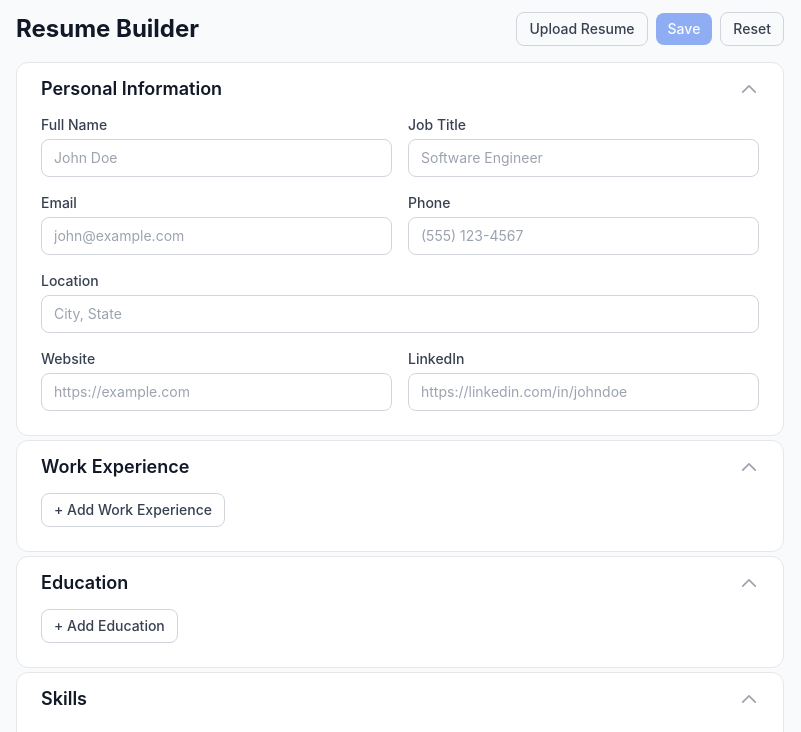
ResumeBuilder › reverts changes when Reset is clicked
Type "Changed Name" into the field with placeholder "John Doe" at (216, 158), box top-left (41, 139), bottom-right (392, 177)
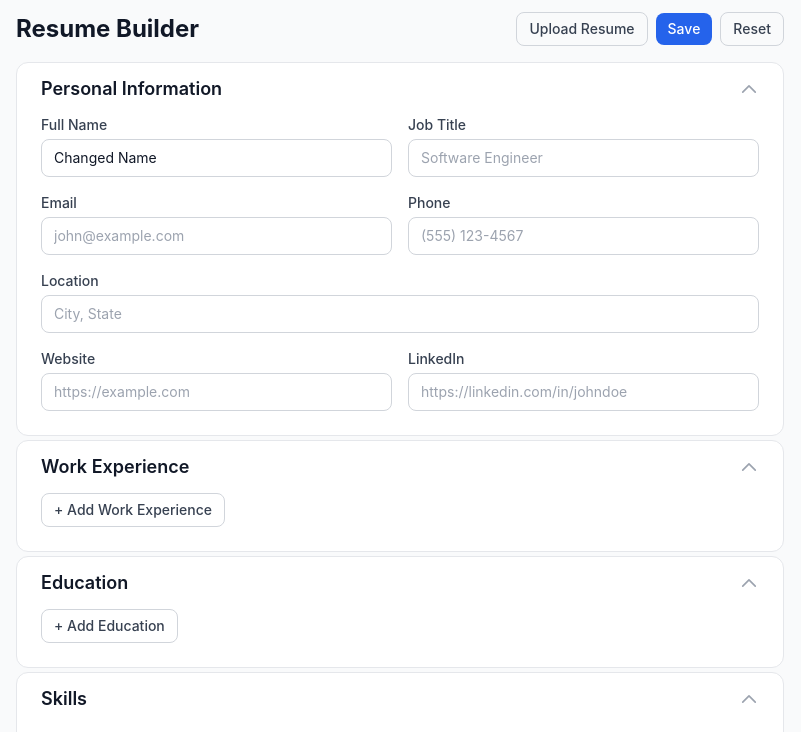
Click the button with test id "reset-btn" at (752, 29), box top-left (720, 12), bottom-right (784, 46)
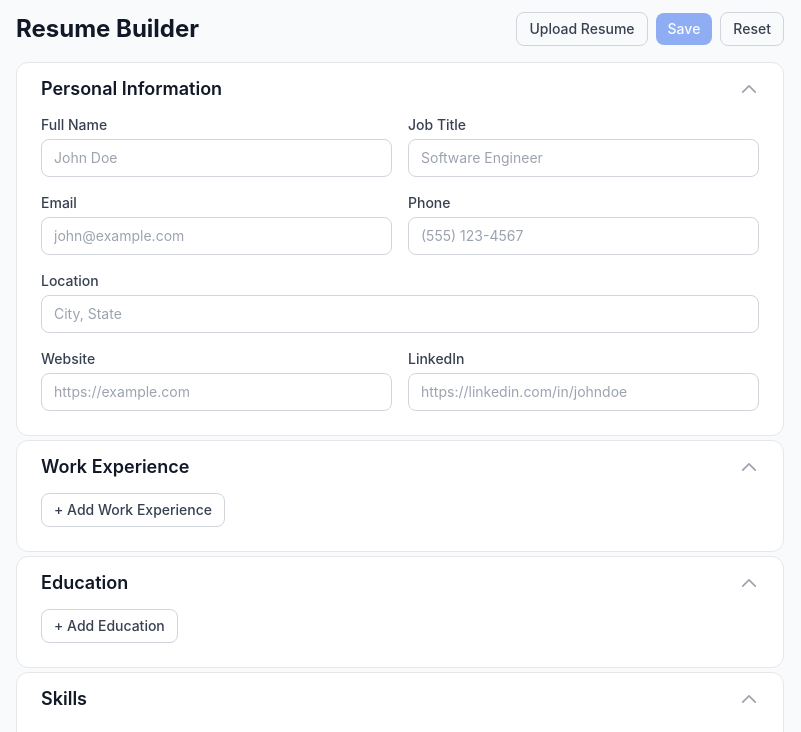
Expected: the field with placeholder "John Doe" is empty, top-left (41, 139), bottom-right (392, 177)
